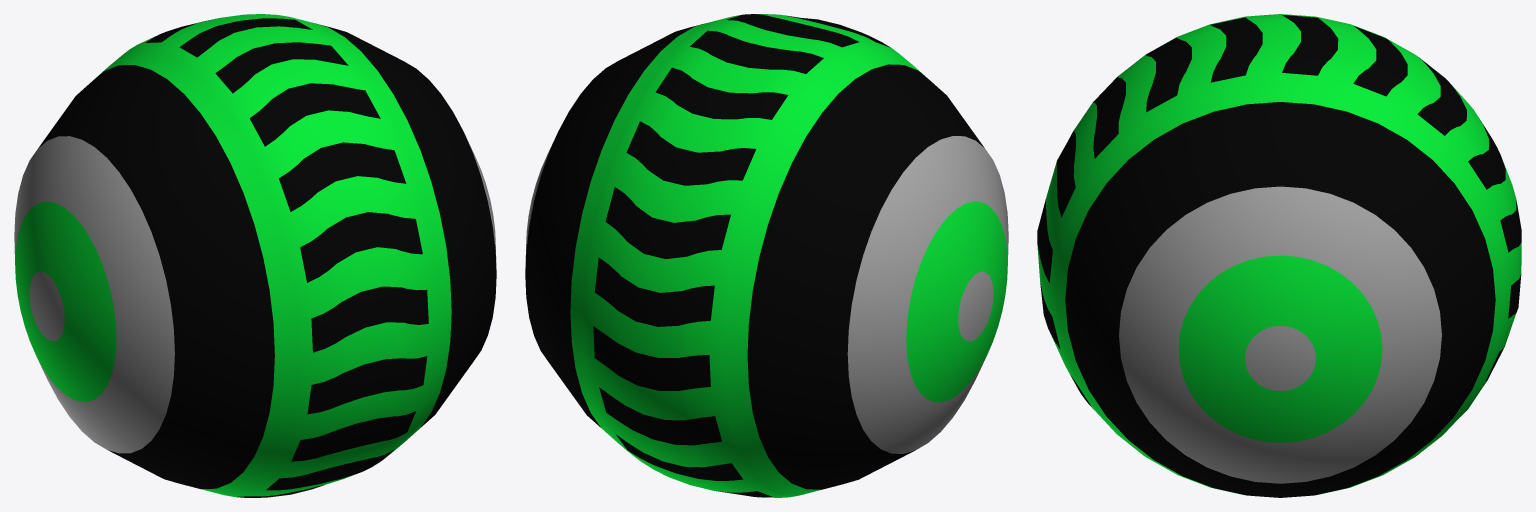
3 views of the same model, side by side, from view 1: azimuth 30°, elevation 25°; view 2: azimuth 150°, elevation 25°; view 3: azimuth 270°, elevation 25° (orthographic).
Visible parts, largest first — view 1: pSphere4; view 2: pSphere4; view 3: pSphere4.
Boxes of the visible parts, left/top/right/bottom form: pSphere4: left=14, top=14, right=496, bottom=497; pSphere4: left=525, top=14, right=1008, bottom=497; pSphere4: left=1037, top=14, right=1521, bottom=497.
Bounding box in the file's own units: 1 × 1 × 1.
